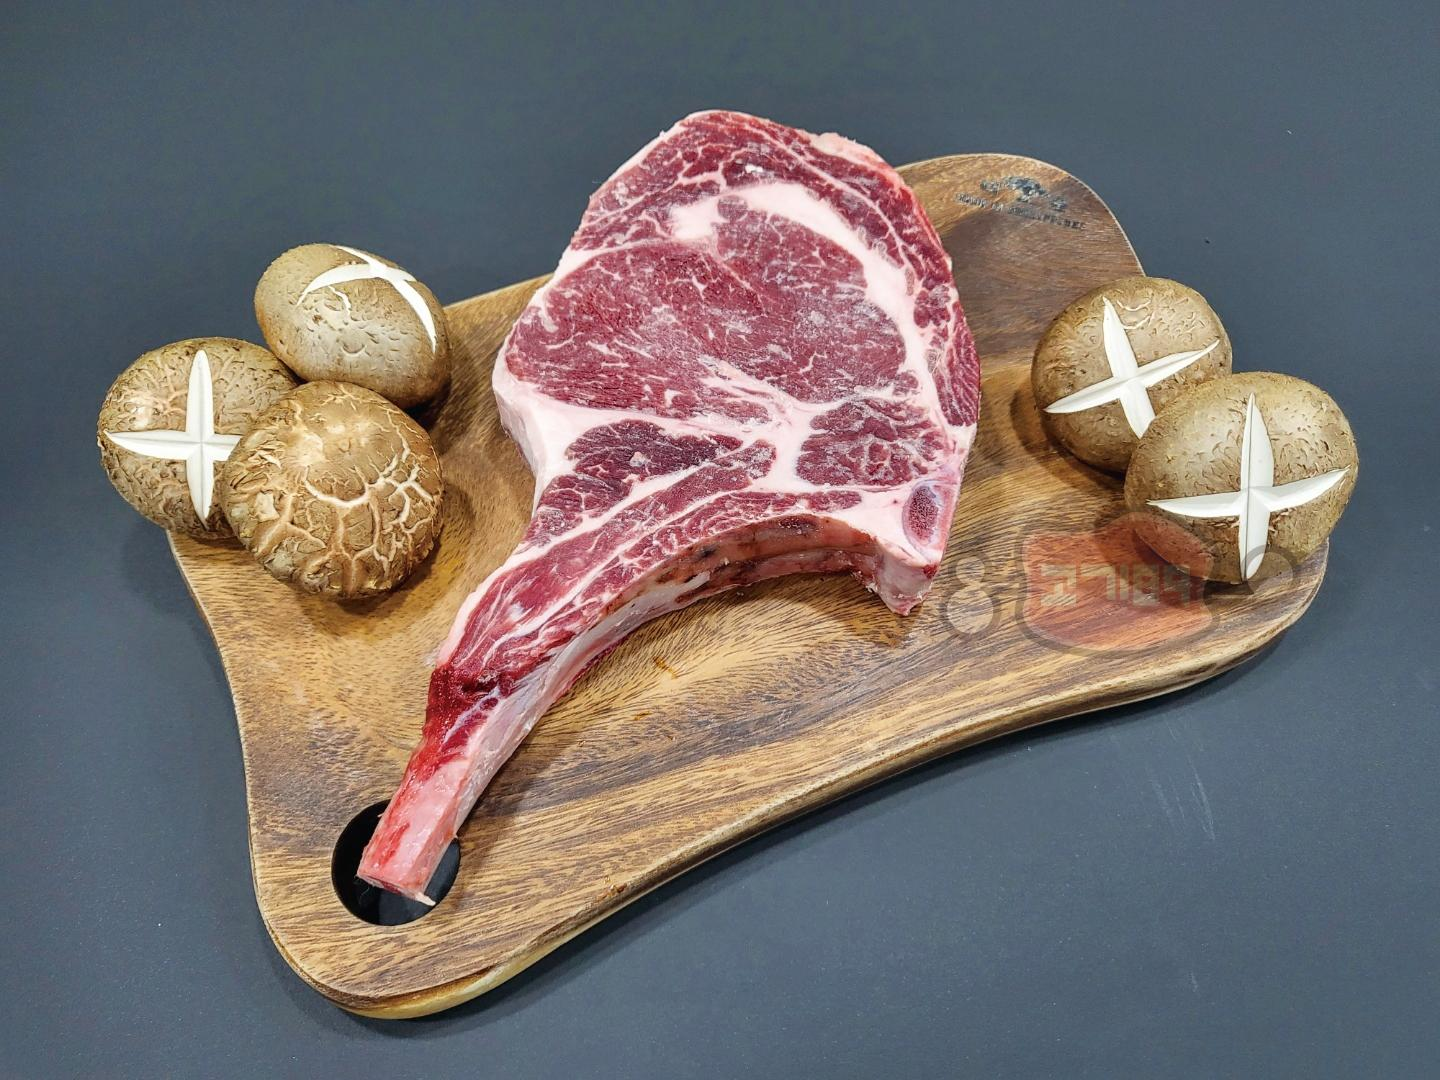beef: (1025, 339, 1440, 1001)
